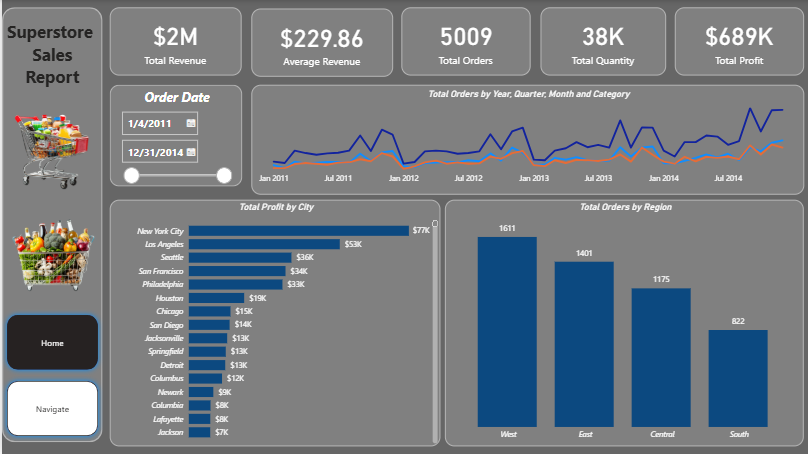

This screenshot's page, from the dashboard's own definition file:
{"tool":"powerbi","page":{"name":"Home","canvas":[1280,720],"ordinal":0},"visuals":[{"type":"shape","box":[0,11.6,159.1,688.9],"z":0},{"type":"barChart","fields":{"Category":["Orders.City"],"Y":["Orders.Total Profit"]},"box":[170.2,315.3,524.3,390.8],"z":3000},{"type":"columnChart","fields":{"Category":["Orders.Region"],"Y":["Orders.Total Orders"]},"box":[702.3,315.3,568.8,390.8],"z":4000},{"type":"lineChart","fields":{"Category":["Orders.Order Date.Variation.Date Hierarchy.Year","Orders.Order Date.Variation.Date Hierarchy.Quarter","Orders.Order Date.Variation.Date Hierarchy.Month"],"Series":["Orders.Category"],"Y":["Orders.Total Orders"]},"box":[394.8,134.2,875.9,174.4],"z":7000},{"type":"card","fields":{"Values":["Orders.Total Profit"]},"box":[1066,11.6,205.1,108.3],"z":9000},{"type":"card","fields":{"Values":["Orders.Total Revenue"]},"box":[170.2,11.6,208.9,108.3],"z":9001},{"type":"card","fields":{"Values":["Orders.Total Orders"]},"box":[632.6,11.6,205.1,108.3],"z":9002},{"type":"card","fields":{"Values":["Orders.Total Quantity"]},"box":[853.2,11.6,199.3,108.3],"z":9003},{"type":"card","fields":{"Values":["Orders.Average Revenue"]},"box":[394.7,13.5,224.4,108.3],"z":9004},{"type":"pageNavigator","box":[0,491.4,160.6,208.9],"z":9005},{"type":"textbox","box":[0,26.8,159.1,136.1],"z":9007},{"type":"slicer","title":"Order Date","fields":{"Values":["Orders.Order Date"]},"box":[170.8,133.9,209.6,161.1],"z":9009},{"type":"image","box":[0,162.9,159.1,153.3],"z":9010},{"type":"image","box":[3.8,316.2,155.2,159.1],"z":9011}]}

Visuals, with their boxes in screenshot pixels (x1, y1, x2, y2), scaled from the page's 1280x720 canvas onto the 808x454 screenshot:
shape: (0,7,100,442)
barChart - Orders.City x Orders.Total Profit: (107,199,438,445)
columnChart - Orders.Region x Orders.Total Orders: (443,199,802,445)
lineChart - Orders.Order Date.Variation.Date Hierarchy.Year x Orders.Order Date.Variation.Date Hierarchy.Quarter: (249,85,802,195)
card - Orders.Total Profit: (673,7,802,76)
card - Orders.Total Revenue: (107,7,239,76)
card - Orders.Total Orders: (399,7,529,76)
card - Orders.Total Quantity: (539,7,664,76)
card - Orders.Average Revenue: (249,9,391,77)
pageNavigator: (0,310,101,442)
textbox: (0,17,100,103)
"Order Date" slicer: (108,84,240,186)
image: (0,103,100,199)
image: (2,199,100,300)
